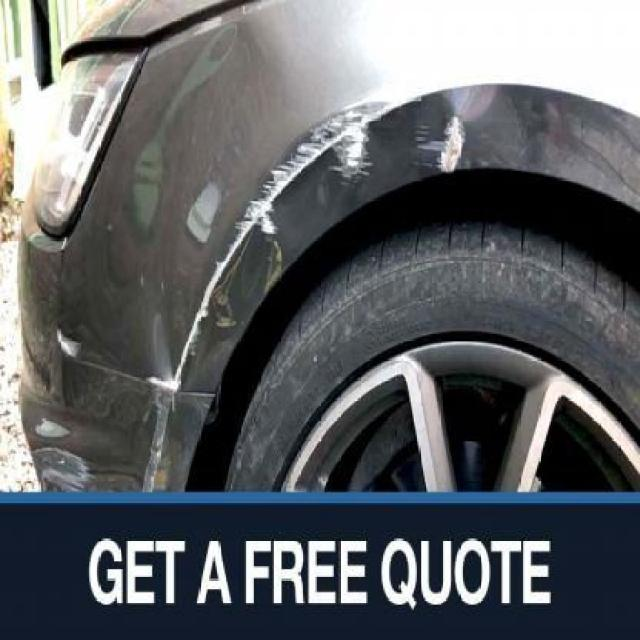scratch: (115, 194, 303, 397), (176, 85, 492, 198)
